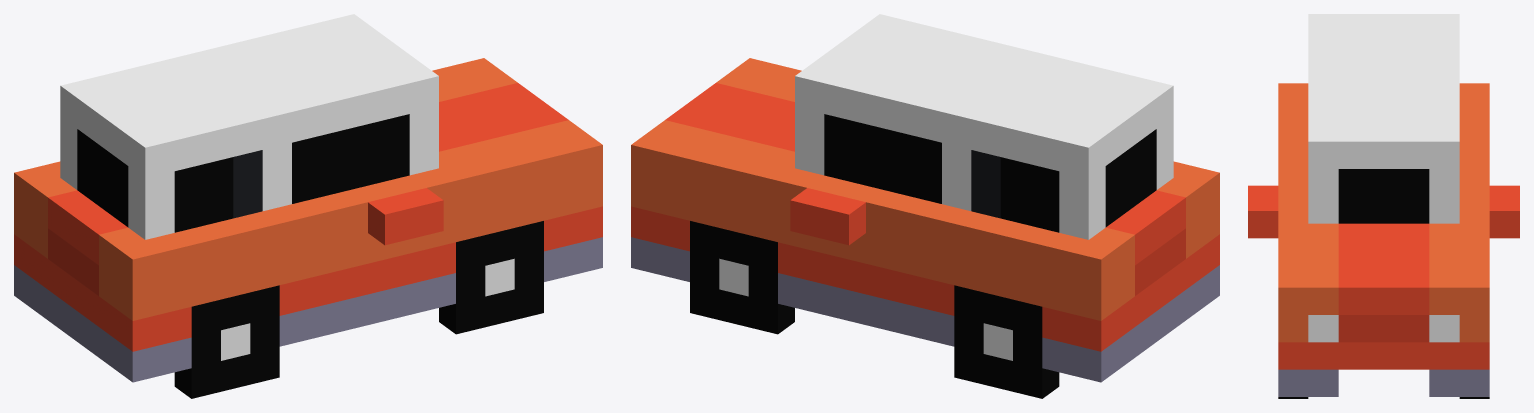
Rendered from OrangeCar.obj.
The picture shows the model from 3 angles, left to right: view 1: azimuth 30°, elevation 25°; view 2: azimuth 150°, elevation 25°; view 3: azimuth 270°, elevation 25°; orthographic projection. The views are drawn at different scales.
Bounding box in the file's own units: 1.6 × 0.8 × 0.9.
Materials: 1 (1 with a texture image).
